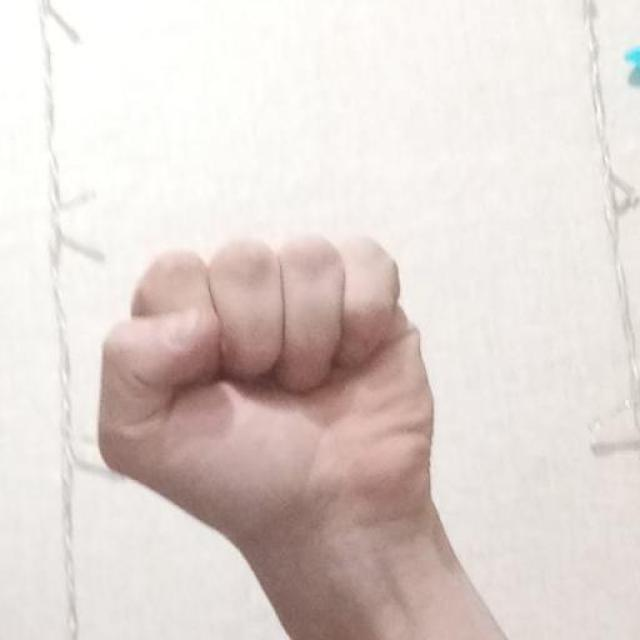hand: (96, 228, 439, 552)
